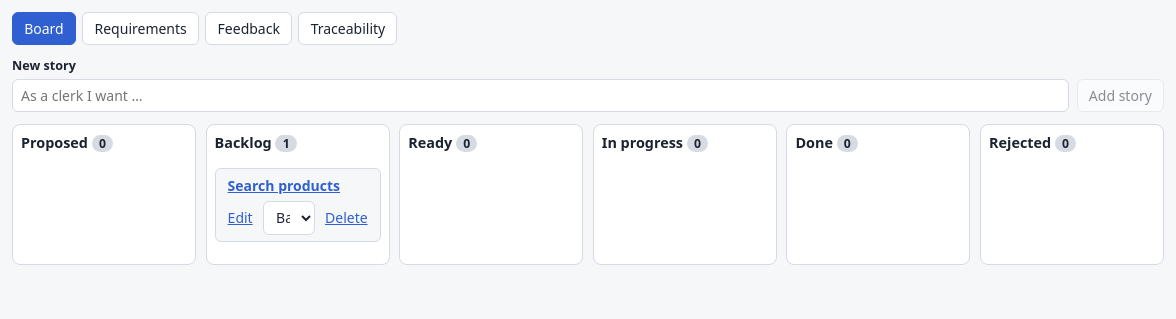
Scenario: story board › adds a story and shows the server’s error when it fails
The image size is (1176, 319).
In the field labelled "New story": (540, 96) x1=12 y1=79 x2=1069 y2=112, type "Export CSV"
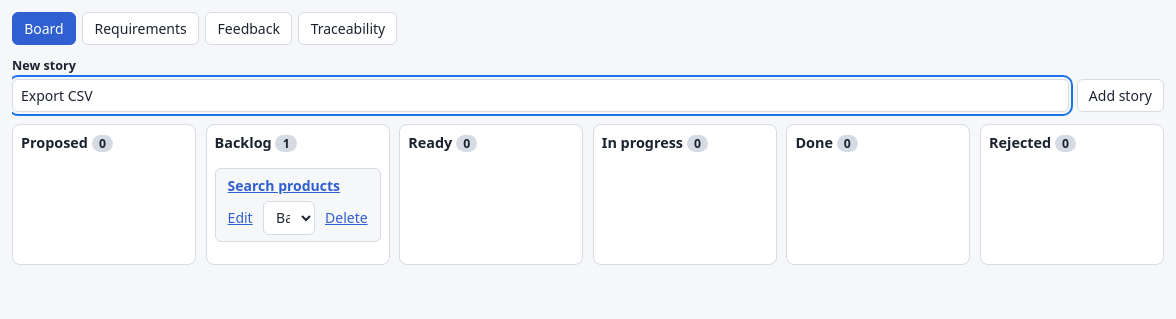
Click the button "Add story": (1120, 96) x1=1077 y1=79 x2=1164 y2=112
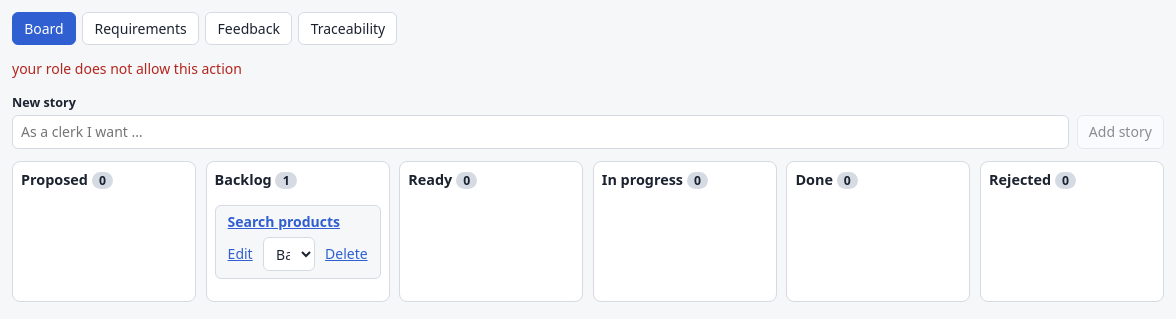
Expected: the message reads "your role does not allow this action", x1=12 y1=60 x2=242 y2=78
